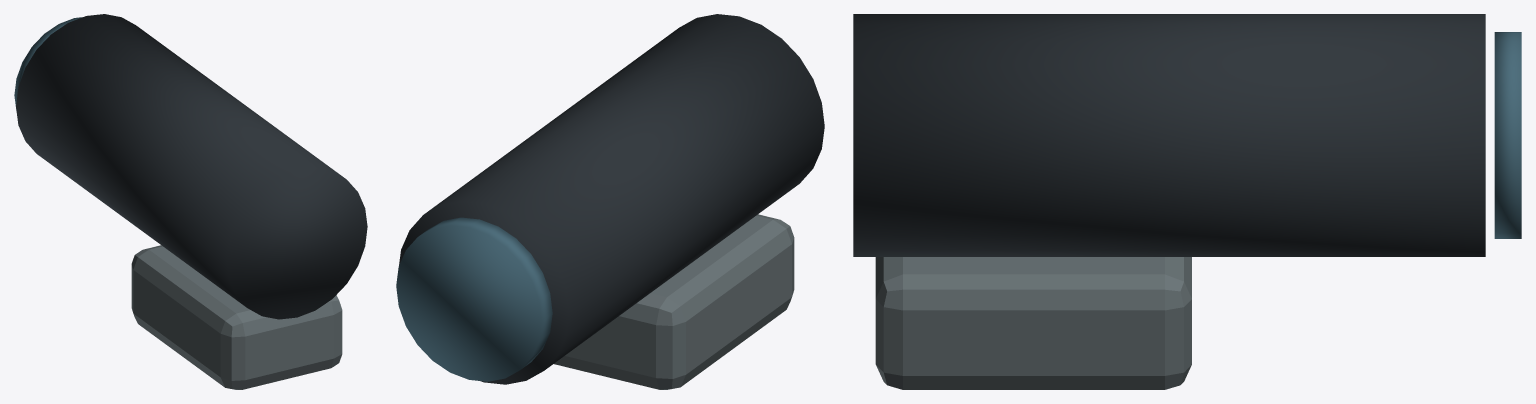
File: mc_optic.glb
3 views of the same model, side by side, from view 1: azimuth 30°, elevation 25°; view 2: azimuth 150°, elevation 25°; view 3: azimuth 270°, elevation 25° (orthographic). The views are drawn at different scales.
Parts seen in each view (by area): view 1: mc_optic__Geometry; view 2: mc_optic__Geometry; view 3: mc_optic__Geometry.
Boxes of the visible parts, x1,y1,x2,y2 form: mc_optic__Geometry: (14,14,367,389); mc_optic__Geometry: (396,14,824,389); mc_optic__Geometry: (853,14,1521,389).
Size of the model in its own units: 0.054 by 0.081 by 0.148.
